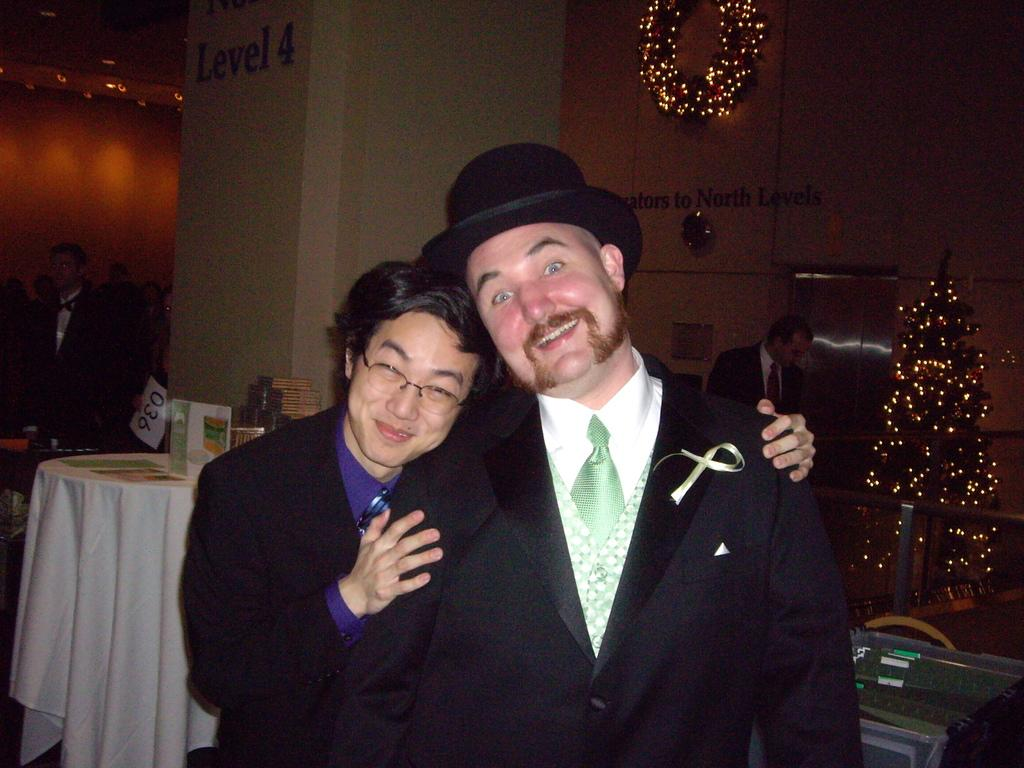Hat: (420, 142, 648, 302)
